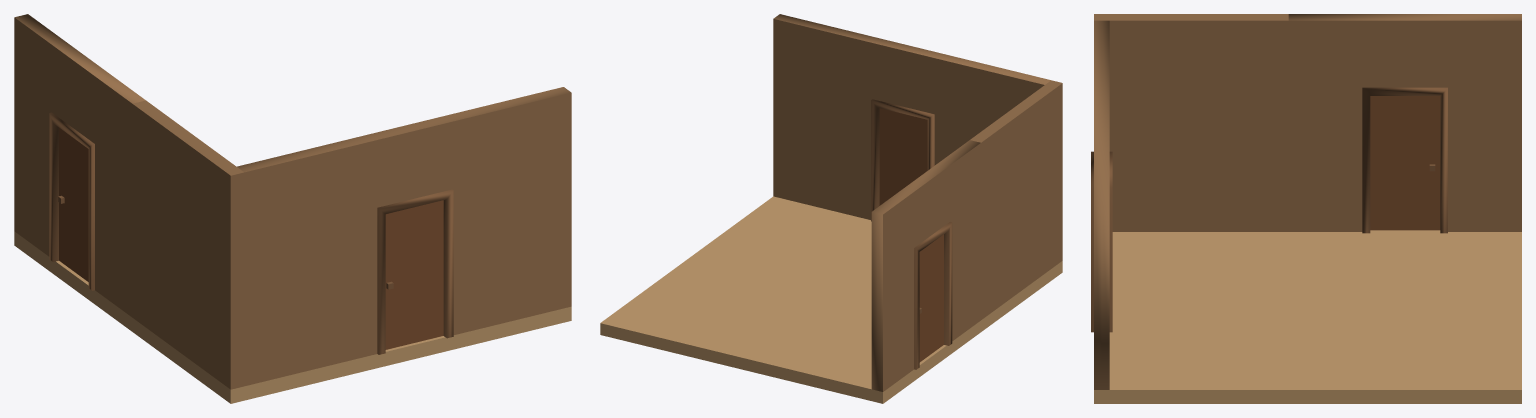
File: rooms.glb
The picture shows the model from 3 angles, left to right: view 1: azimuth 30°, elevation 25°; view 2: azimuth 150°, elevation 25°; view 3: azimuth 270°, elevation 25°; orthographic projection. The views are drawn at different scales.
Visible parts, largest first — view 1: LeftWall, Wall, RightWall, Door (×2), Floor (×2), DoorFrame (×2); view 2: Floor (×2), LeftWall, RightWall, Wall, Door (×2), DoorFrame (×2); view 3: Floor (×2), Wall, RightWall, Door, LeftWall, DoorFrame (×2).
Boxes of the visible parts, box(x1,y1,x2,y2) form: LeftWall: box(237, 87, 571, 386); Wall: box(132, 100, 244, 389); RightWall: box(14, 14, 145, 317); Door (×2): box(59, 127, 443, 349); Floor (×2): box(14, 231, 571, 403); DoorFrame (×2): box(49, 112, 453, 354); Floor (×2): box(600, 196, 1062, 403); LeftWall: box(773, 14, 1050, 219); RightWall: box(871, 140, 980, 391); Wall: box(970, 80, 1062, 319); Door (×2): box(879, 108, 943, 362); DoorFrame (×2): box(871, 99, 952, 369); Floor (×2): box(1094, 230, 1521, 403); Wall: box(1094, 14, 1288, 231); RightWall: box(1288, 14, 1521, 231); Door: box(1370, 96, 1440, 230); LeftWall: box(1094, 20, 1109, 389); DoorFrame (×2): box(1091, 87, 1447, 332).
Bounding box in the file's own units: 5.04 × 3.2 × 5.54.
